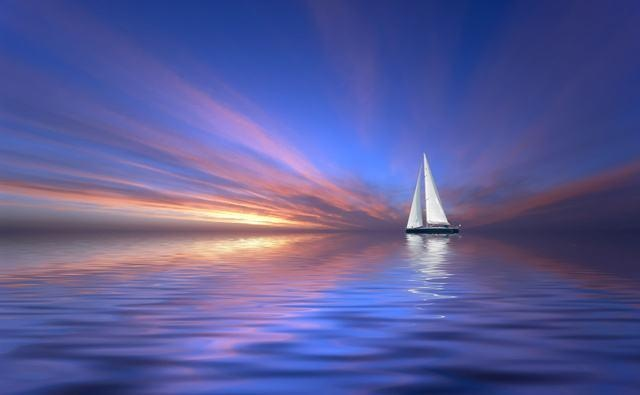fanchuan: (402, 147, 464, 236)
